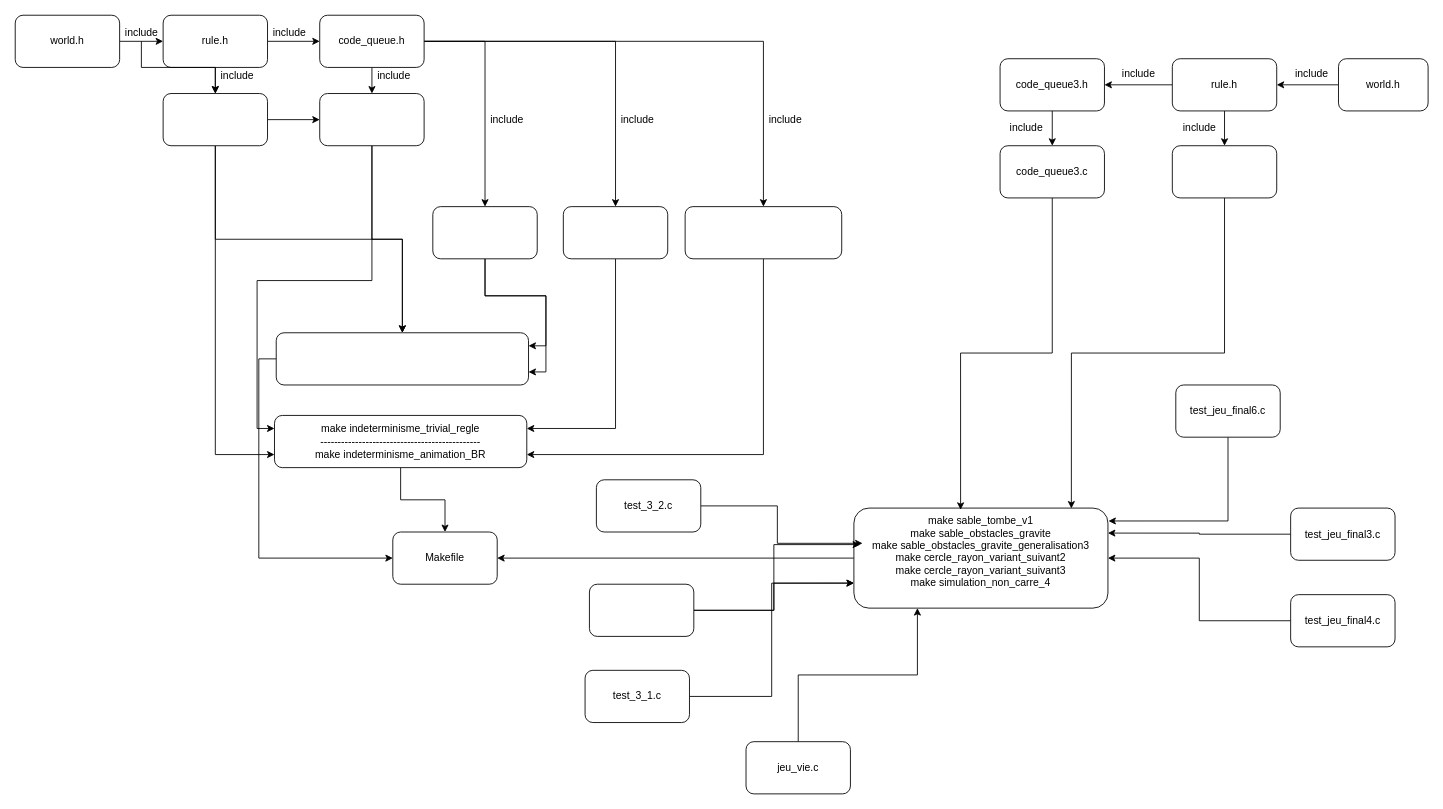
Image size: 1443x809. Some labels were removed from this diagram. Here are the shapes that lost their labels. From the top down, the box of each, then its label:
(162, 93, 268, 146): rule.c
(319, 93, 424, 146): code_queue.c
(1171, 145, 1277, 198): rule3.c
(432, 206, 537, 259): project.c
(562, 206, 668, 259): projet2_test1.c
(684, 206, 842, 259): projet2_test1_with_animation.c
(275, 332, 529, 385): make_simulation ---------------------------------- make simulation_non_carre
(589, 583, 694, 636): algo_iteration2.c
